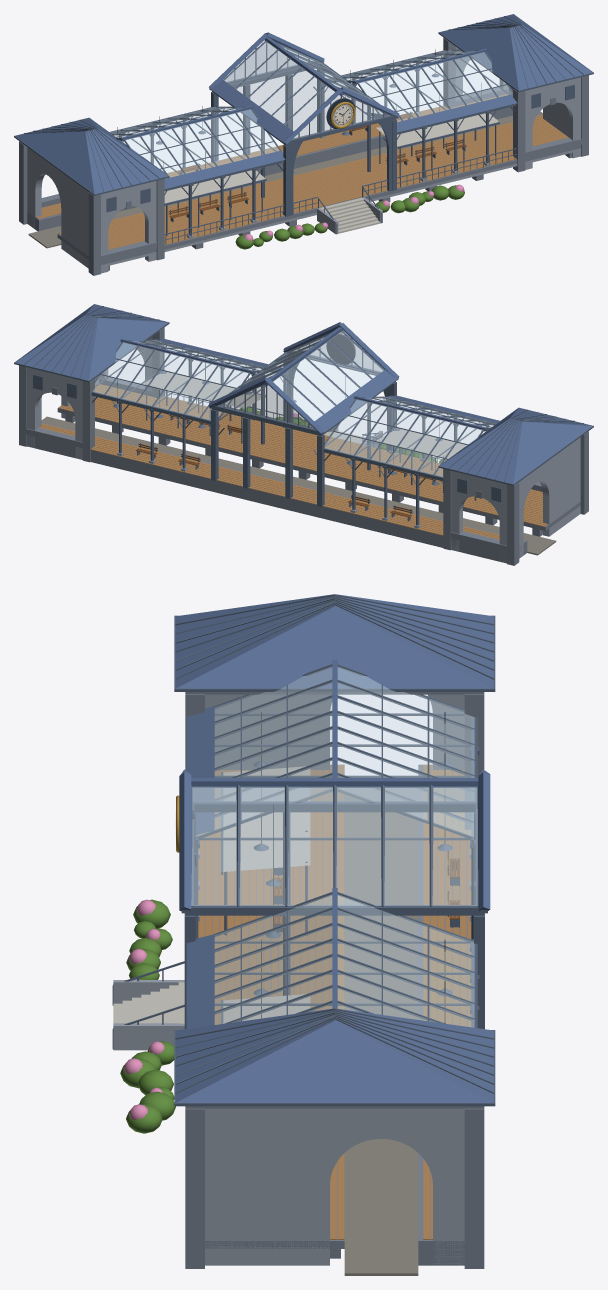
The model's file is estacao.glb.
3 views of the same model, one above another, from view 1: azimuth 30°, elevation 25°; view 2: azimuth 150°, elevation 25°; view 3: azimuth 270°, elevation 25° (orthographic). The views are drawn at different scales.
Visible parts, largest first — view 1: Piso_Plataforma_piso_madeira, Pavilhao_Estrutura_metal_estrutura, Pavilhao_Vidro_vidro, Ala_Oeste_Vidro_vidro, Ala_Leste_Vidro_vidro, Pavilhao_Oeste_telhado_metal_azul, Pavilhao_Leste_telhado_metal_azul, Pavilhao_Oeste_pedra_fachada, Base_pedra_base, Ala_Leste_Estrutura_metal_estrutura, Ala_Oeste_Estrutura_metal_estrutura, Pavilhao_Estrutura_telhado_metal_azul (+17 smaller); view 2: Piso_Plataforma_piso_madeira, Base_pedra_base, Ala_Oeste_Vidro_vidro, Ala_Leste_Vidro_vidro, Pavilhao_Vidro_vidro, Pavilhao_Estrutura_metal_estrutura, Pavilhao_Oeste_telhado_metal_azul, Pavilhao_Leste_telhado_metal_azul, Pavilhao_Oeste_pedra_fachada, Ala_Leste_Estrutura_metal_estrutura, Ala_Oeste_Estrutura_metal_estrutura, Pavilhao_Estrutura_telhado_metal_azul (+13 smaller); view 3: Pavilhao_Vidro_vidro, Pavilhao_Leste_pedra_fachada, Piso_Plataforma_piso_madeira, Pavilhao_Leste_telhado_metal_azul, Pavilhao_Oeste_telhado_metal_azul, Ala_Leste_Vidro_vidro, Leito_Via_leito_brita, Ala_Oeste_Vidro_vidro, Pavilhao_Estrutura_metal_estrutura, Ala_Oeste_Estrutura_metal_estrutura, Ala_Leste_Estrutura_metal_estrutura, Pavilhao_Oeste_pedra_fachada (+13 smaller).
Part boxes in pixels (x1=…): Piso_Plataforma_piso_madeira: x1=36, y1=94, x2=568, y2=249; Pavilhao_Estrutura_metal_estrutura: x1=209, y1=40, x2=398, y2=216; Pavilhao_Vidro_vidro: x1=224, y1=40, x2=390, y2=139; Ala_Oeste_Vidro_vidro: x1=110, y1=107, x2=279, y2=177; Ala_Leste_Vidro_vidro: x1=329, y1=50, x2=512, y2=121; Pavilhao_Oeste_telhado_metal_azul: x1=15, y1=118, x2=168, y2=194; Pavilhao_Leste_telhado_metal_azul: x1=439, y1=14, x2=592, y2=90; Pavilhao_Oeste_pedra_fachada: x1=27, y1=147, x2=156, y2=273; Base_pedra_base: x1=27, y1=106, x2=580, y2=270; Ala_Leste_Estrutura_metal_estrutura: x1=313, y1=49, x2=516, y2=178; Ala_Oeste_Estrutura_metal_estrutura: x1=109, y1=106, x2=284, y2=235; Pavilhao_Estrutura_telhado_metal_azul: x1=209, y1=32, x2=399, y2=144; Piso_Plataforma_piso_madeira: x1=39, y1=384, x2=547, y2=541; Base_pedra_base: x1=27, y1=397, x2=580, y2=563; Ala_Oeste_Vidro_vidro: x1=325, y1=397, x2=496, y2=476; Ala_Leste_Vidro_vidro: x1=93, y1=340, x2=275, y2=420; Pavilhao_Vidro_vidro: x1=218, y1=332, x2=383, y2=428; Pavilhao_Estrutura_metal_estrutura: x1=209, y1=330, x2=398, y2=506; Pavilhao_Oeste_telhado_metal_azul: x1=439, y1=408, x2=592, y2=484; Pavilhao_Leste_telhado_metal_azul: x1=15, y1=304, x2=168, y2=380; Pavilhao_Oeste_pedra_fachada: x1=451, y1=437, x2=580, y2=563; Ala_Leste_Estrutura_metal_estrutura: x1=91, y1=339, x2=294, y2=468; Ala_Oeste_Estrutura_metal_estrutura: x1=313, y1=396, x2=496, y2=525; Pavilhao_Estrutura_telhado_metal_azul: x1=208, y1=322, x2=399, y2=434; Pavilhao_Vidro_vidro: x1=191, y1=787, x2=477, y2=905; Pavilhao_Leste_pedra_fachada: x1=205, y1=1108, x2=464, y2=1265; Piso_Plataforma_piso_madeira: x1=198, y1=765, x2=471, y2=1239; Pavilhao_Leste_telhado_metal_azul: x1=175, y1=1008, x2=493, y2=1102; Pavilhao_Oeste_telhado_metal_azul: x1=175, y1=594, x2=493, y2=688; Ala_Leste_Vidro_vidro: x1=215, y1=894, x2=474, y2=1027; Leito_Via_leito_brita: x1=344, y1=788, x2=418, y2=1275; Ala_Oeste_Vidro_vidro: x1=196, y1=666, x2=474, y2=836; Pavilhao_Estrutura_metal_estrutura: x1=181, y1=784, x2=487, y2=1029; Ala_Oeste_Estrutura_metal_estrutura: x1=194, y1=664, x2=479, y2=939; Ala_Leste_Estrutura_metal_estrutura: x1=213, y1=892, x2=479, y2=1027; Pavilhao_Oeste_pedra_fachada: x1=205, y1=694, x2=464, y2=770.
Bounding box in the file's own units: 48 × 11.67 × 15.62.
